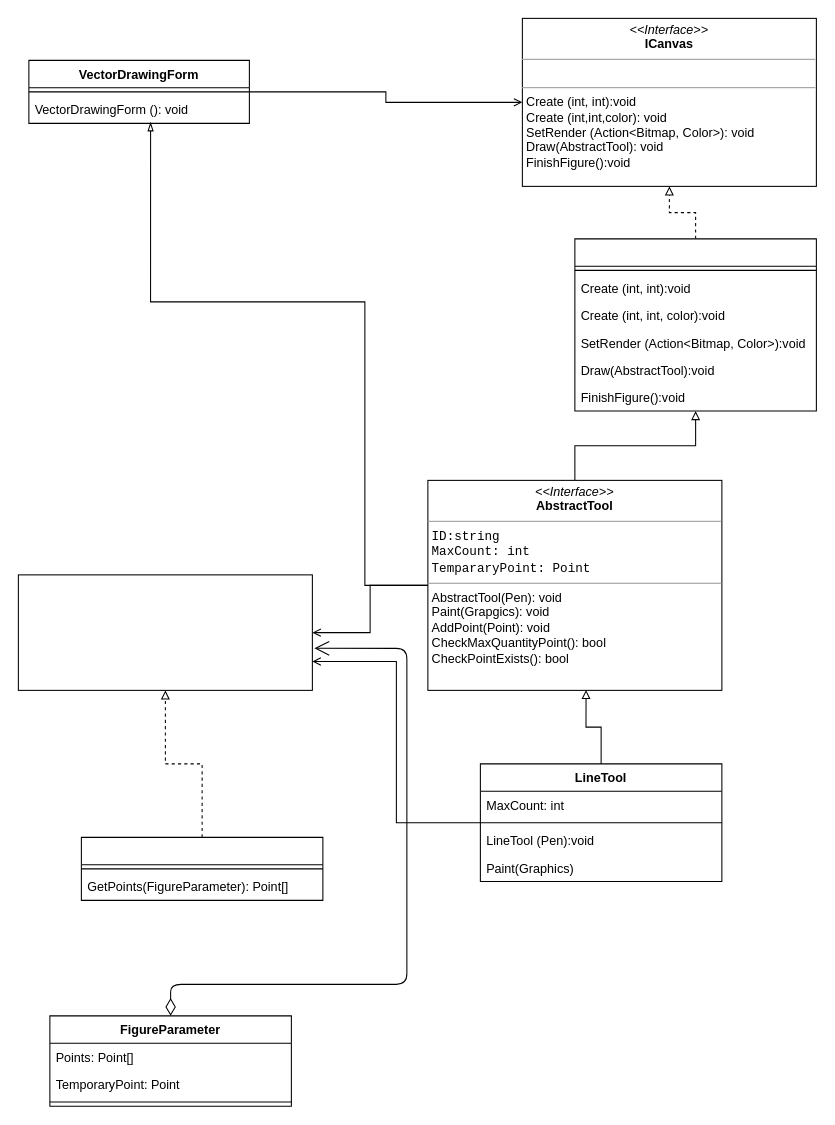
The diagram is 835 pixels wide and 1125 high, and some of its shapes have lost their labels. The box of each missing label's shape, as (x1, y1, x2, y2) in pixels:
<<Interface>> IFigure GetPoints ( FigureParameter ): Point[]: (17, 574, 312, 690)
BitmapCanvas: (574, 238, 816, 411)
LineFigure: (80, 836, 323, 900)
